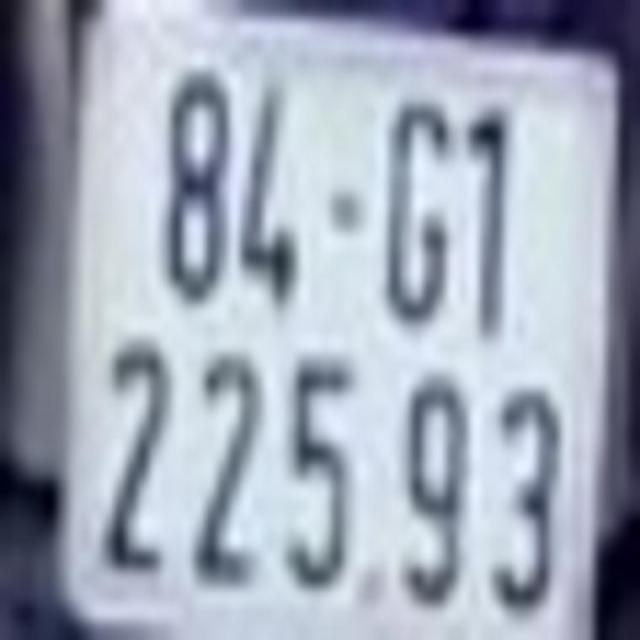1: (465, 109, 505, 338)
2: (196, 354, 266, 583), (103, 340, 165, 580)
3: (493, 396, 555, 604)
4: (238, 75, 302, 311)
5: (293, 360, 348, 586)
8: (160, 72, 235, 306)
9: (403, 380, 463, 604)
G: (384, 109, 452, 324)
